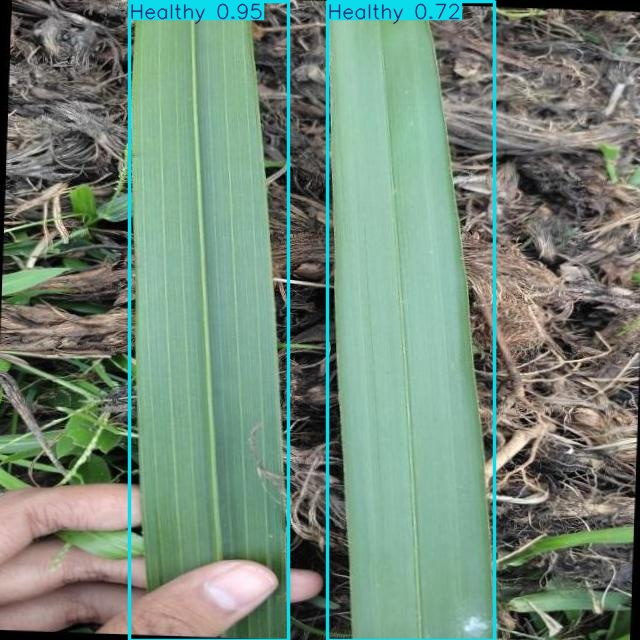Healthy: (328, 2, 494, 640), (129, 1, 288, 640)
